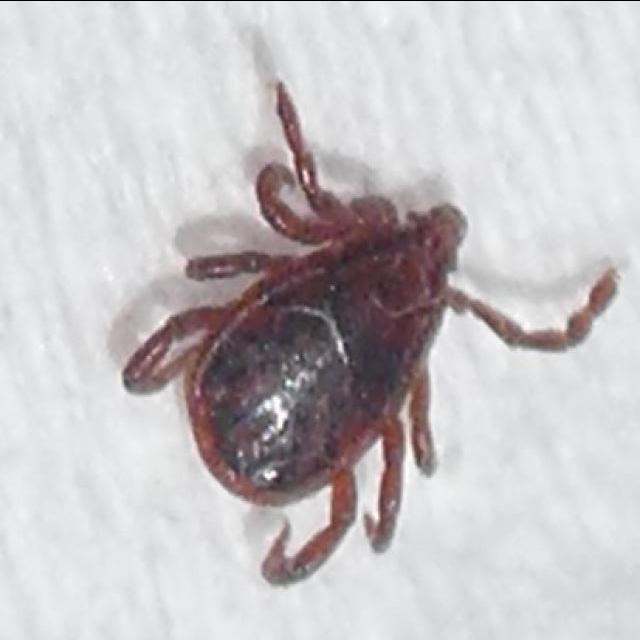Rhipicephalus Sanguineus-M: (122, 80, 620, 586)
